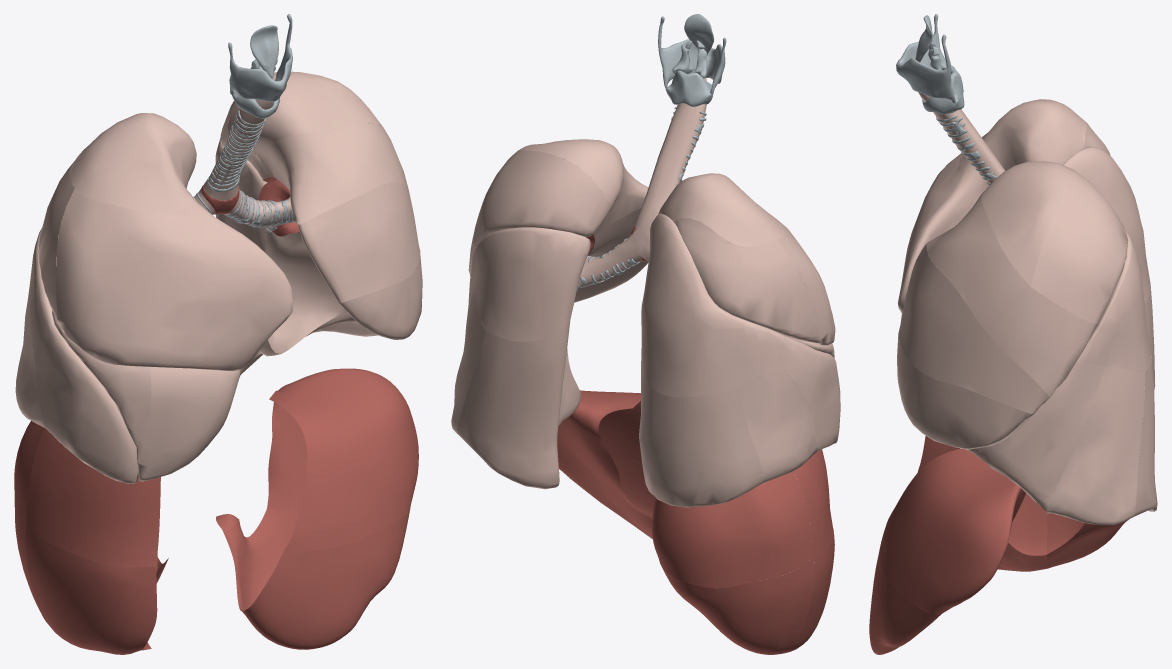
The model's file is adult_female.respiratory.LOD1.glb.
3 views of the same model, side by side, from view 1: azimuth 30°, elevation 25°; view 2: azimuth 150°, elevation 25°; view 3: azimuth 270°, elevation 25° (orthographic). The views are drawn at different scales.
Parts seen in each view (by area): view 1: ADULT.FEMALE.RESPIRATORY.ANTERIOR_BRONCHOPULMONARY_SEGM.R, ADULT.FEMALE.RESPIRATORY.SUPEROMEDIAL_SEGMENT.L, ADULT.FEMALE.RESPIRATORY.ANTEROLATERAL_SEGMENT.L, ADULT.FEMALE.RESPIRATORY.ANTEROSUPERIOR_SEGMENT.R, ADULT.FEMALE.RESPIRATORY.ANTEROINFERIOR_SEGMENT.R, ADULT.FEMALE.RESPIRATORY.ANTERIOR_BASAL_BRONCHOPULMONARY_SEG, ADULT.FEMALE.RESPIRATORY.LINGULA_SUPERIOR_BRONCHOPULMONARY_S, ADULT.FEMALE.RESPIRATORY.APICAL_BRONCHOPULMONARY_SEGMENT.R, ADULT.FEMALE.RESPIRATORY.ANTERIOR_BRONCHOPULMONARY_SEGMENT.L, ADULT.FEMALE.RESPIRATORY.MEDIAL_BRONCHOPULMONARY_SEGMENT.R, ADULT.FEMALE.RESPIRATORY.APICAL_BRONCHOPULMONARY_SEGMENT.L, ADULT.FEMALE.RESPIRATORY.MEDIAL_BASAL_BRONCHOPULMONARY_SEGME (+14 smaller); view 2: ADULT.FEMALE.RESPIRATORY.POSTERIOR_BASAL_BRONCHOPULMONARY_SE (×2), ADULT.FEMALE.RESPIRATORY.POSTERIOR_BRONCHOPULMONARY_SEGMENT. (×2), ADULT.FEMALE.RESPIRATORY.SUPERIOR_BRONCHOPULMONARY_SEGMENT.R, ADULT.FEMALE.RESPIRATORY.POSTEROSUPERIOR_SEGMENT.R, ADULT.FEMALE.RESPIRATORY.SUPERIOR_BRONCHOPULMONARY_SEGMENT.L, ADULT.FEMALE.RESPIRATORY.LATERAL_BASAL_BRONCHOPULMONARY_SEGM (×2), ADULT.FEMALE.RESPIRATORY.POSTEROINFERIOR_SEGMENT.R, ADULT.FEMALE.RESPIRATORY.SUPEROMEDIAL_SEGMENT.L, ADULT.FEMALE.RESPIRATORY.APICAL_BRONCHOPULMONARY_SEGMENT.R, ADULT.FEMALE.RESPIRATORY.ANTERIOR_BASAL_BRONCHOPULMONARY_SEG, ADULT.FEMALE.RESPIRATORY.TRACHEA, ADULT.FEMALE.RESPIRATORY.ANTEROLATERAL_SEGMENT.L (+11 smaller); view 3: ADULT.FEMALE.RESPIRATORY.SUPEROMEDIAL_SEGMENT.L, ADULT.FEMALE.RESPIRATORY.ANTERIOR_BRONCHOPULMONARY_SEGMENT.L, ADULT.FEMALE.RESPIRATORY.LINGULA_SUPERIOR_BRONCHOPULMONARY_S, ADULT.FEMALE.RESPIRATORY.LATERAL_BASAL_BRONCHOPULMONARY_SEGM, ADULT.FEMALE.RESPIRATORY.POSTERIOR_BRONCHOPULMONARY_SEGMENT., ADULT.FEMALE.RESPIRATORY.ANTERIOR_BASAL_BRONCHOPULMONARY_SEG, ADULT.FEMALE.RESPIRATORY.LINGULA_INFERIOR_BRONCHOPULMONARY_S, ADULT.FEMALE.RESPIRATORY.APICAL_BRONCHOPULMONARY_SEGMENT.L, ADULT.FEMALE.RESPIRATORY.APICAL_BRONCHOPULMONARY_SEGMENT.R, ADULT.FEMALE.RESPIRATORY.SUPERIOR_BRONCHOPULMONARY_SEGMENT.L, ADULT.FEMALE.RESPIRATORY.ANTERIOR_BRONCHOPULMONARY_SEGM.R, ADULT.FEMALE.RESPIRATORY.SUPERIOR_BRONCHOPULMONARY_SEGMENT.R (+10 smaller).
Boxes of the visible parts, x1,y1,x2,y2 form: ADULT.FEMALE.RESPIRATORY.ANTERIOR_BRONCHOPULMONARY_SEGM.R: (56, 188, 293, 370); ADULT.FEMALE.RESPIRATORY.SUPEROMEDIAL_SEGMENT.L: (267, 368, 418, 552); ADULT.FEMALE.RESPIRATORY.ANTEROLATERAL_SEGMENT.L: (216, 508, 409, 649); ADULT.FEMALE.RESPIRATORY.ANTEROSUPERIOR_SEGMENT.R: (26, 428, 160, 567); ADULT.FEMALE.RESPIRATORY.ANTEROINFERIOR_SEGMENT.R: (25, 526, 168, 654); ADULT.FEMALE.RESPIRATORY.ANTERIOR_BASAL_BRONCHOPULMONARY_SEG: (30, 273, 151, 483); ADULT.FEMALE.RESPIRATORY.LINGULA_SUPERIOR_BRONCHOPULMONARY_S: (297, 182, 420, 303); ADULT.FEMALE.RESPIRATORY.APICAL_BRONCHOPULMONARY_SEGMENT.R: (69, 113, 196, 215); ADULT.FEMALE.RESPIRATORY.ANTERIOR_BRONCHOPULMONARY_SEGMENT.L: (269, 123, 408, 224); ADULT.FEMALE.RESPIRATORY.MEDIAL_BRONCHOPULMONARY_SEGMENT.R: (136, 367, 240, 481); ADULT.FEMALE.RESPIRATORY.APICAL_BRONCHOPULMONARY_SEGMENT.L: (227, 71, 382, 176); ADULT.FEMALE.RESPIRATORY.MEDIAL_BASAL_BRONCHOPULMONARY_SEGME: (265, 231, 346, 353); ADULT.FEMALE.RESPIRATORY.POSTERIOR_BASAL_BRONCHOPULMONARY_SE (×2): (456, 320, 763, 507); ADULT.FEMALE.RESPIRATORY.POSTERIOR_BRONCHOPULMONARY_SEGMENT. (×2): (473, 150, 821, 342); ADULT.FEMALE.RESPIRATORY.SUPERIOR_BRONCHOPULMONARY_SEGMENT.R: (641, 213, 784, 397); ADULT.FEMALE.RESPIRATORY.POSTEROSUPERIOR_SEGMENT.R: (652, 471, 813, 588); ADULT.FEMALE.RESPIRATORY.SUPERIOR_BRONCHOPULMONARY_SEGMENT.L: (471, 227, 590, 341); ADULT.FEMALE.RESPIRATORY.LATERAL_BASAL_BRONCHOPULMONARY_SEGM (×2): (451, 290, 817, 483); ADULT.FEMALE.RESPIRATORY.POSTEROINFERIOR_SEGMENT.R: (662, 557, 814, 654); ADULT.FEMALE.RESPIRATORY.SUPEROMEDIAL_SEGMENT.L: (557, 390, 641, 506); ADULT.FEMALE.RESPIRATORY.APICAL_BRONCHOPULMONARY_SEGMENT.R: (658, 173, 784, 246); ADULT.FEMALE.RESPIRATORY.ANTERIOR_BASAL_BRONCHOPULMONARY_SEG: (775, 335, 840, 451); ADULT.FEMALE.RESPIRATORY.TRACHEA: (633, 78, 706, 261); ADULT.FEMALE.RESPIRATORY.ANTEROLATERAL_SEGMENT.L: (562, 459, 655, 539); ADULT.FEMALE.RESPIRATORY.SUPEROMEDIAL_SEGMENT.L: (880, 448, 1026, 615); ADULT.FEMALE.RESPIRATORY.ANTERIOR_BRONCHOPULMONARY_SEGMENT.L: (926, 193, 1097, 396); ADULT.FEMALE.RESPIRATORY.LINGULA_SUPERIOR_BRONCHOPULMONARY_S: (898, 244, 1049, 414); ADULT.FEMALE.RESPIRATORY.LATERAL_BASAL_BRONCHOPULMONARY_SEGM: (1046, 366, 1145, 525); ADULT.FEMALE.RESPIRATORY.POSTERIOR_BRONCHOPULMONARY_SEGMENT.: (1031, 171, 1128, 323); ADULT.FEMALE.RESPIRATORY.ANTERIOR_BASAL_BRONCHOPULMONARY_SEG: (966, 362, 1104, 511); ADULT.FEMALE.RESPIRATORY.LINGULA_INFERIOR_BRONCHOPULMONARY_S: (897, 337, 1033, 449); ADULT.FEMALE.RESPIRATORY.APICAL_BRONCHOPULMONARY_SEGMENT.L: (981, 161, 1075, 286); ADULT.FEMALE.RESPIRATORY.APICAL_BRONCHOPULMONARY_SEGMENT.R: (959, 99, 1087, 170); ADULT.FEMALE.RESPIRATORY.SUPERIOR_BRONCHOPULMONARY_SEGMENT.L: (1076, 231, 1151, 372); ADULT.FEMALE.RESPIRATORY.ANTERIOR_BRONCHOPULMONARY_SEGM.R: (898, 153, 988, 313); ADULT.FEMALE.RESPIRATORY.SUPERIOR_BRONCHOPULMONARY_SEGMENT.R: (1063, 147, 1150, 302).
Size of the model in its own units: 0.2554 by 0.4012 by 0.1689.
